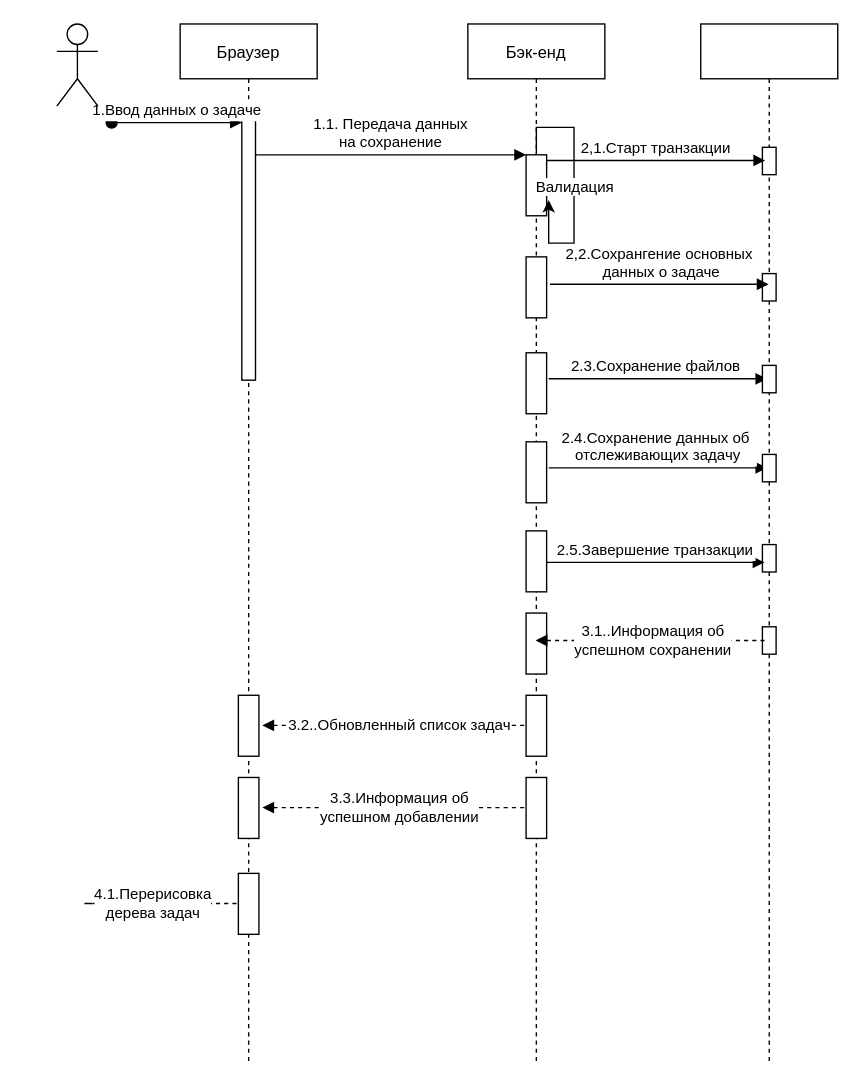
Image size: 862x1089. Some labels were removed from this diagram. Here are the shapes that lost their labels. From the top down, the centre of each, then its label:
At point (76, 64): "Пользователь".
At point (768, 544): "База данных".
